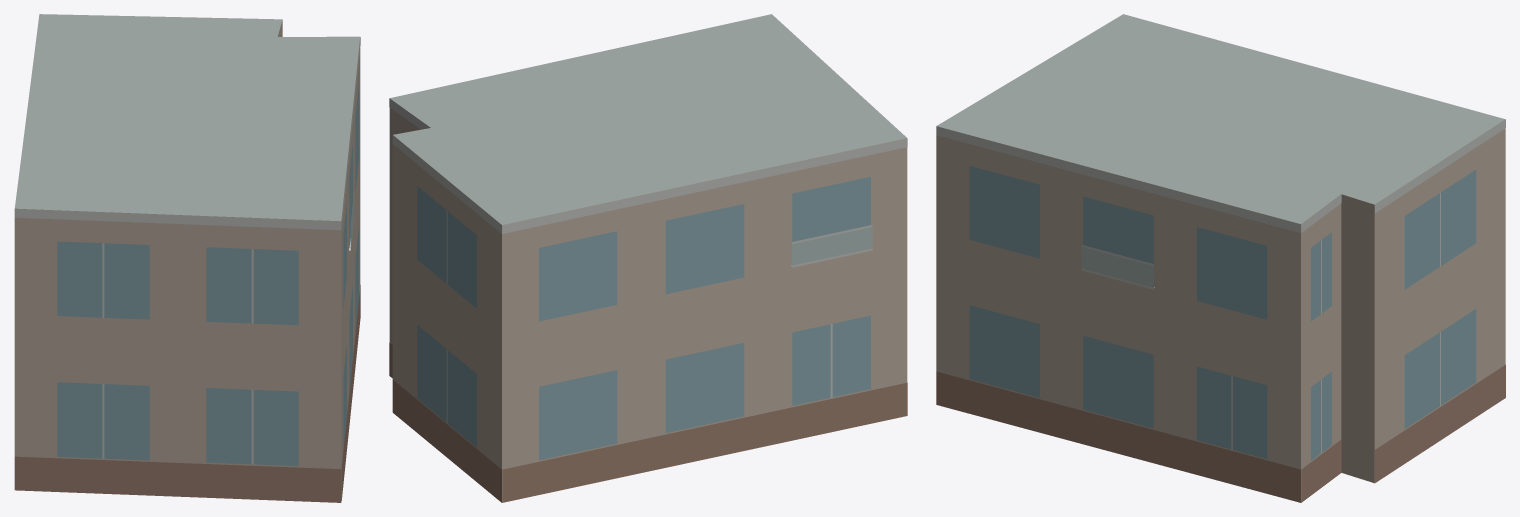
Rendered from survey-upis-32544573.glb.
3 views of the same model, side by side, from view 1: azimuth 30°, elevation 25°; view 2: azimuth 150°, elevation 25°; view 3: azimuth 270°, elevation 25° (orthographic).
Parts seen in each view (by area): view 1: survey-upis-32544573.tmp; view 2: survey-upis-32544573.tmp; view 3: survey-upis-32544573.tmp.
Part boxes in pixels (x1,y1,x2,y2): survey-upis-32544573.tmp: (14, 14, 360, 502); survey-upis-32544573.tmp: (389, 14, 907, 502); survey-upis-32544573.tmp: (936, 14, 1505, 502).
Size of the model in its own units: 12.31 by 7.6 by 14.09.
